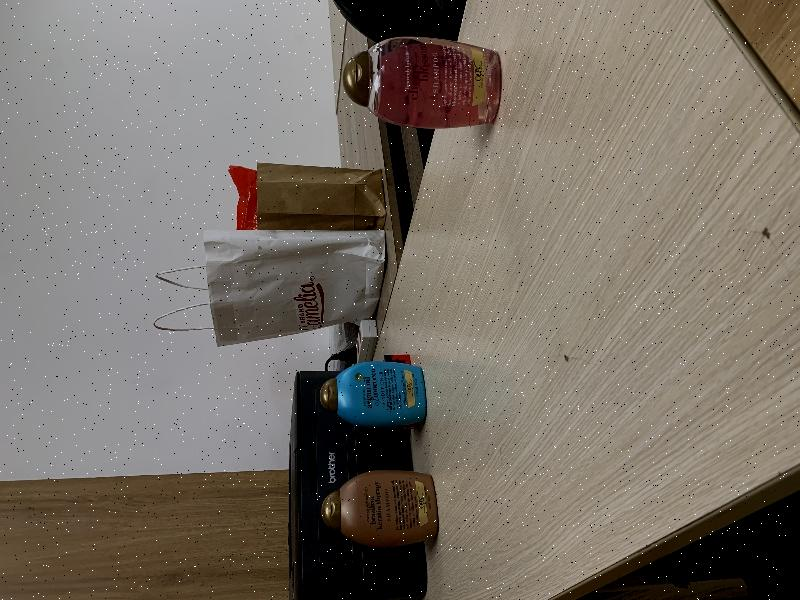ArganOilOfMorocco_Conditioner: (320, 361, 426, 428)
BrazilianKeratinTherapy_Shampoo: (321, 470, 439, 548)
CherryBlossom_Shampoo: (343, 36, 501, 129)
